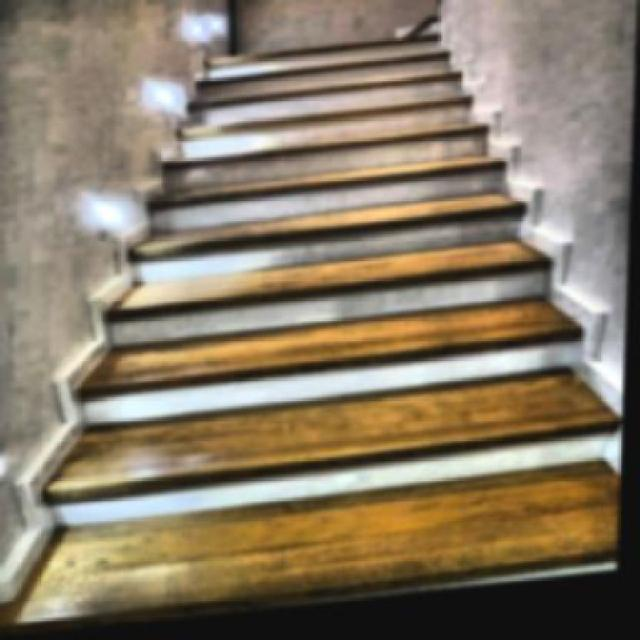stair: (8, 21, 637, 637)
